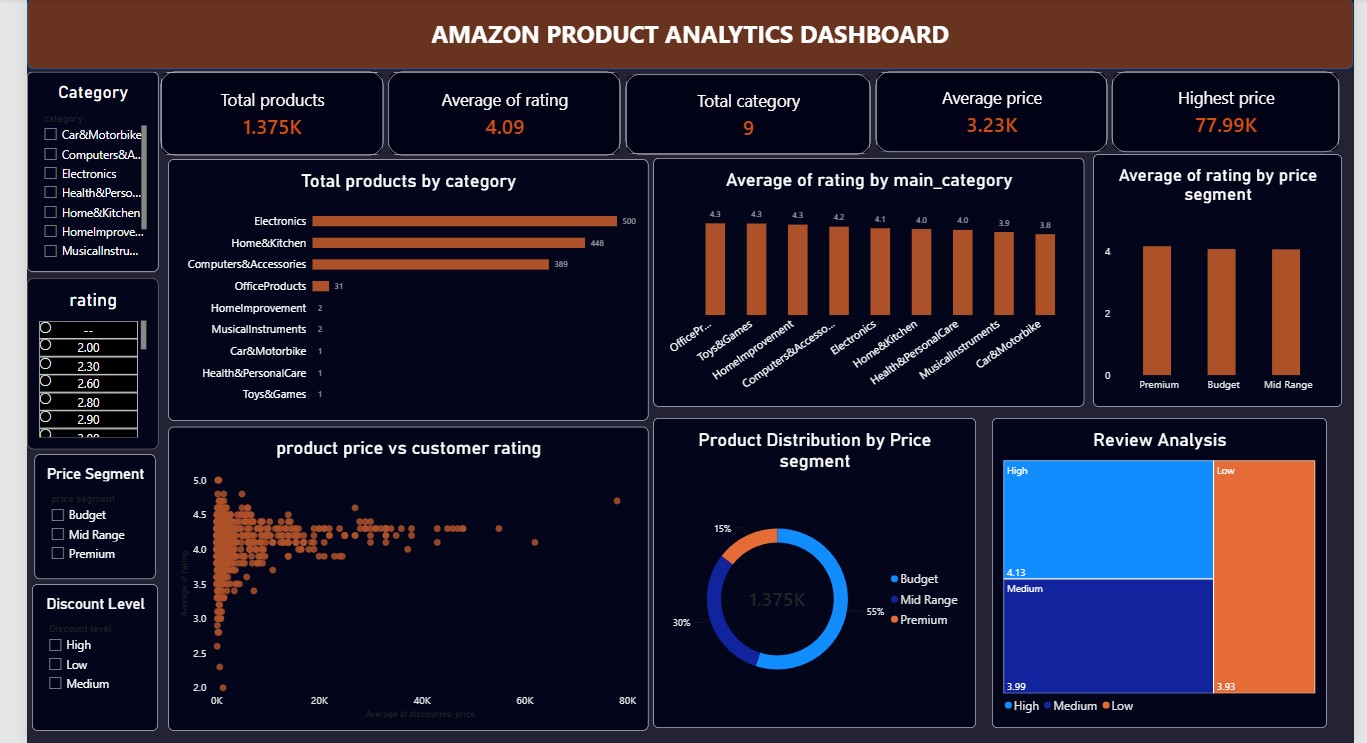

What the dashboard file says about the page in this screenshot:
{"tool":"powerbi","page":{"name":"Page 1","canvas":[1920,1080],"ordinal":0},"visuals":[{"type":"cardVisual","fields":{"Data":["CountNonNull(Amazon_product_analysis 222.product_name)"]},"box":[190,103.2,329.4,128.5],"z":0},{"type":"cardVisual","fields":{"Data":["Avg(Amazon_product_analysis 222.rating)"]},"box":[519.4,103.2,343.8,128.5],"z":1000},{"type":"cardVisual","fields":{"Data":["Count(Amazon_product_analysis 222.main_category)"]},"box":[863.2,106.8,361.9,123.1],"z":2000},{"type":"cardVisual","fields":{"Data":["Avg(Amazon_product_analysis 222.discounted_price)"]},"box":[1225.1,103.2,342,123.1],"z":3000},{"type":"cardVisual","fields":{"Data":["Max(Amazon_product_analysis 222.discounted_price)"]},"box":[1567.2,103.2,336.6,123.1],"z":4000},{"type":"textbox","box":[128,320.5,245,150],"z":5000},{"type":"textbox","box":[128,536,245,150],"z":6000},{"type":"textbox","box":[128,751,245,150],"z":7000},{"type":"textbox","box":[128,911,245,150],"z":8000},{"type":"clusteredBarChart","title":"Total products by category","fields":{"Category":["Amazon_product_analysis 222.main_category"],"Y":["CountNonNull(Amazon_product_analysis 222.product_id)"]},"box":[204.5,233.4,694.9,378.2],"z":9000},{"type":"clusteredColumnChart","fields":{"Category":["Amazon_product_analysis 222.main_category"],"Y":["Avg(Amazon_product_analysis 222.rating)"]},"box":[906.6,231.6,624.3,360.1],"z":10000},{"type":"donutChart","title":"Product Distribution  by Price segment","fields":{"Category":["Amazon_product_analysis 222.price segment"],"Y":["CountNonNull(Amazon_product_analysis 222.product_name)"]},"box":[906.6,608,466.9,448.8],"z":11000},{"type":"scatterChart","title":"product price vs customer rating","fields":{"Category":["Amazon_product_analysis 222.product_name"],"X":["Avg(Amazon_product_analysis 222.discounted_price)"],"Y":["Avg(Amazon_product_analysis 222.rating)"]},"box":[204.5,620.7,694.9,439.7],"z":12000},{"type":"clusteredColumnChart","fields":{"Category":["Amazon_product_analysis 222.price segment"],"Y":["Avg(Amazon_product_analysis 222.rating)"]},"box":[1543.6,226.2,360.1,365.6],"z":13000},{"type":"shape","box":[0,0,1920.1,103.2],"z":14000},{"type":"slicer","title":"Category","fields":{"Values":["Amazon_product_analysis 222.main_category"]},"box":[0,106.8,190,289.5],"z":15000},{"type":"listSlicer","fields":{"Values":["Amazon_product_analysis 222.rating"]},"box":[0,405.4,190,247.9],"z":16000},{"type":"slicer","title":"Price Segment","fields":{"Values":["Amazon_product_analysis 222.price segment"]},"box":[10.9,660.5,175.5,181],"z":17000},{"type":"slicer","title":"Discount Level","fields":{"Values":["Amazon_product_analysis 222.Discount level"]},"box":[7.2,848.7,182.8,211.7],"z":18000},{"type":"treemap","title":" Review Analysis","fields":{"Group":["Amazon_product_analysis 222.Review Level"],"Values":["Avg(Amazon_product_analysis 222.rating)"]},"box":[1397.1,608,485,448.8],"z":19000}]}

Visuals, with their boxes on the page's 1920x1080 design canvas (x1, y1, x2, y2). These are canvas units, not pixel positions in the 1367x743 screenshot, which may show the page scaled, cropped or inside an application window:
cardVisual - CountNonNull(Amazon_product_analysis 222.product_name): rect(190, 103, 519, 232)
cardVisual - Avg(Amazon_product_analysis 222.rating): rect(519, 103, 863, 232)
cardVisual - Count(Amazon_product_analysis 222.main_category): rect(863, 107, 1225, 230)
cardVisual - Avg(Amazon_product_analysis 222.discounted_price): rect(1225, 103, 1567, 226)
cardVisual - Max(Amazon_product_analysis 222.discounted_price): rect(1567, 103, 1904, 226)
textbox: rect(128, 320, 373, 470)
textbox: rect(128, 536, 373, 686)
textbox: rect(128, 751, 373, 901)
textbox: rect(128, 911, 373, 1061)
"Total products by category" clusteredBarChart: rect(204, 233, 899, 612)
clusteredColumnChart - Amazon_product_analysis 222.main_category x Avg(Amazon_product_analysis 222.rating): rect(907, 232, 1531, 592)
"Product Distribution  by Price segment" donutChart: rect(907, 608, 1374, 1057)
"product price vs customer rating" scatterChart: rect(204, 621, 899, 1060)
clusteredColumnChart - Amazon_product_analysis 222.price segment x Avg(Amazon_product_analysis 222.rating): rect(1544, 226, 1904, 592)
shape: rect(0, 0, 1920, 103)
"Category" slicer: rect(0, 107, 190, 396)
listSlicer - Amazon_product_analysis 222.rating: rect(0, 405, 190, 653)
"Price Segment" slicer: rect(11, 660, 186, 842)
"Discount Level" slicer: rect(7, 849, 190, 1060)
" Review Analysis" treemap: rect(1397, 608, 1882, 1057)
